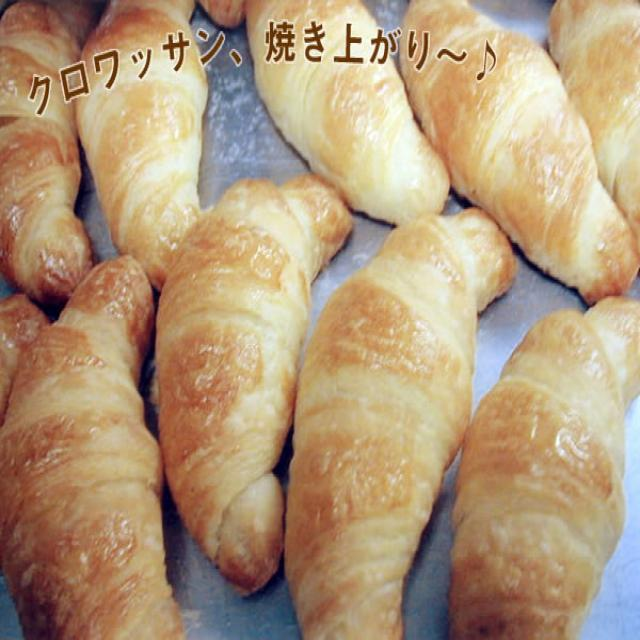Croissant: (151, 157, 334, 604)
